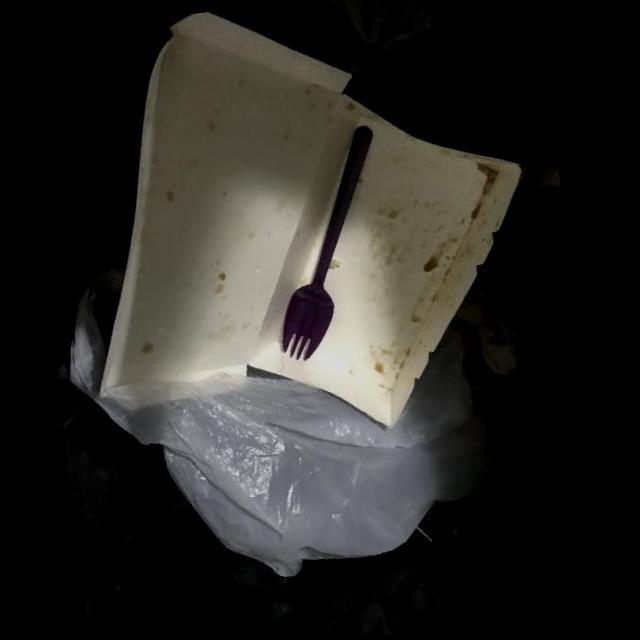carton: (99, 11, 524, 428)
tui_ni_long: (70, 268, 495, 576)
